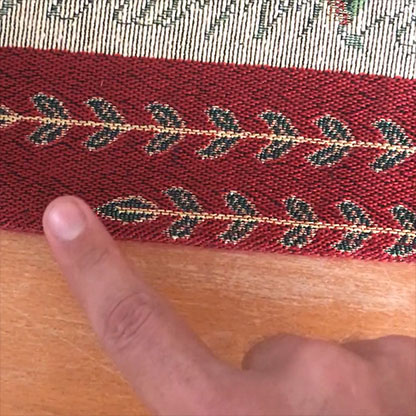fingertip: (27, 188, 111, 261)
